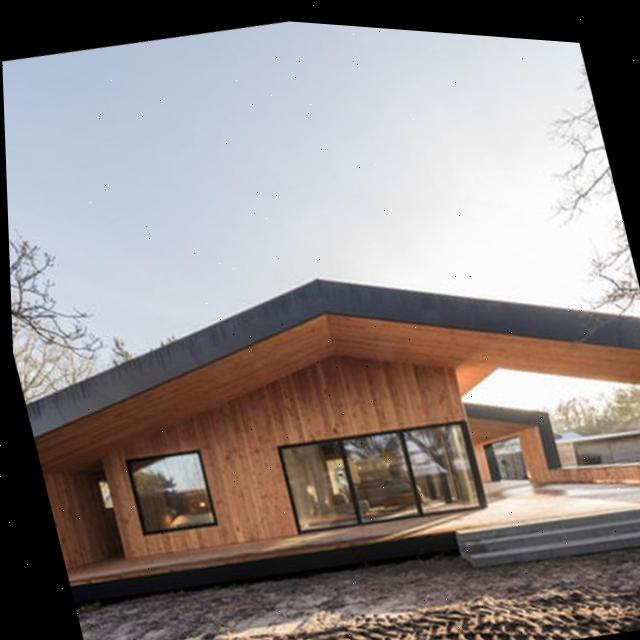building: (7, 186, 640, 640)
